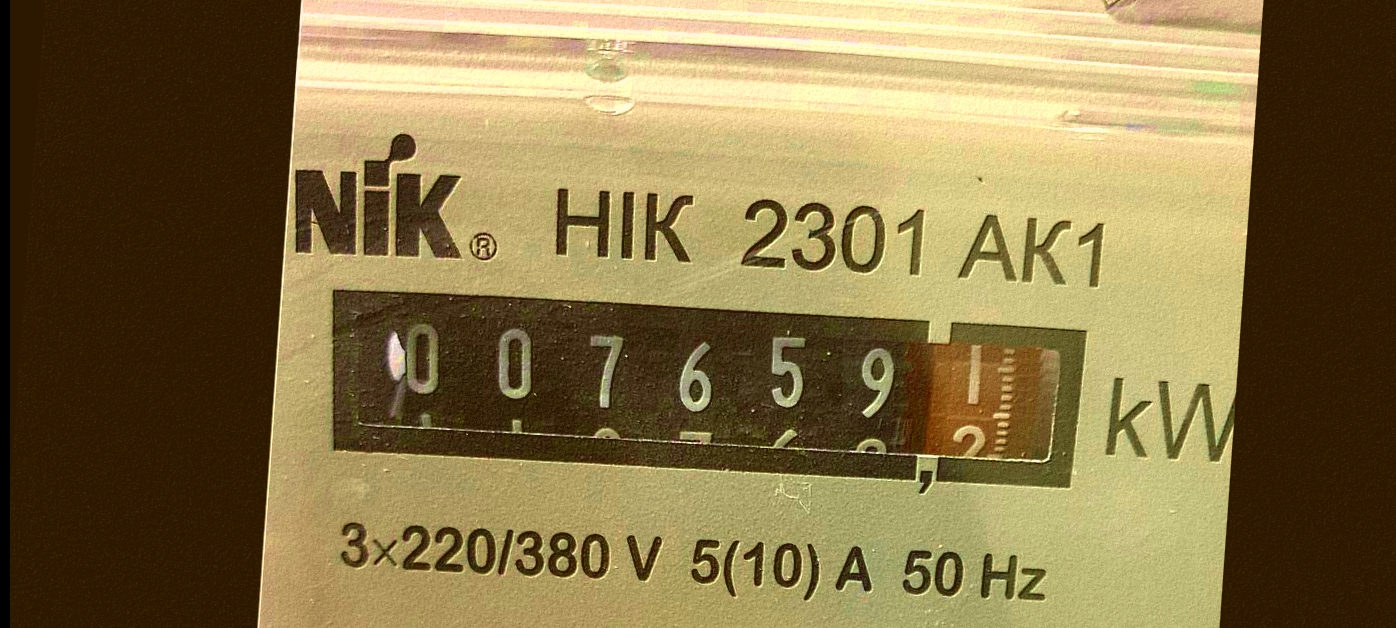0: (483, 318, 545, 408), (395, 313, 451, 406)
1: (958, 337, 997, 414)
5: (761, 329, 813, 414)
6: (668, 332, 724, 418)
7: (581, 328, 628, 415)
9: (853, 339, 901, 430)
screen: (302, 256, 1109, 525)
